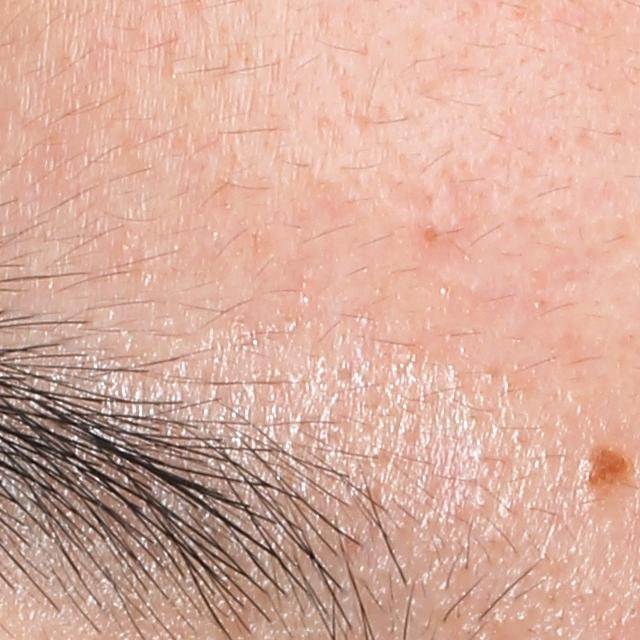atrophic_scar: (382, 177, 441, 218)
comedo: (416, 222, 448, 253)
nevus: (565, 441, 633, 496)
